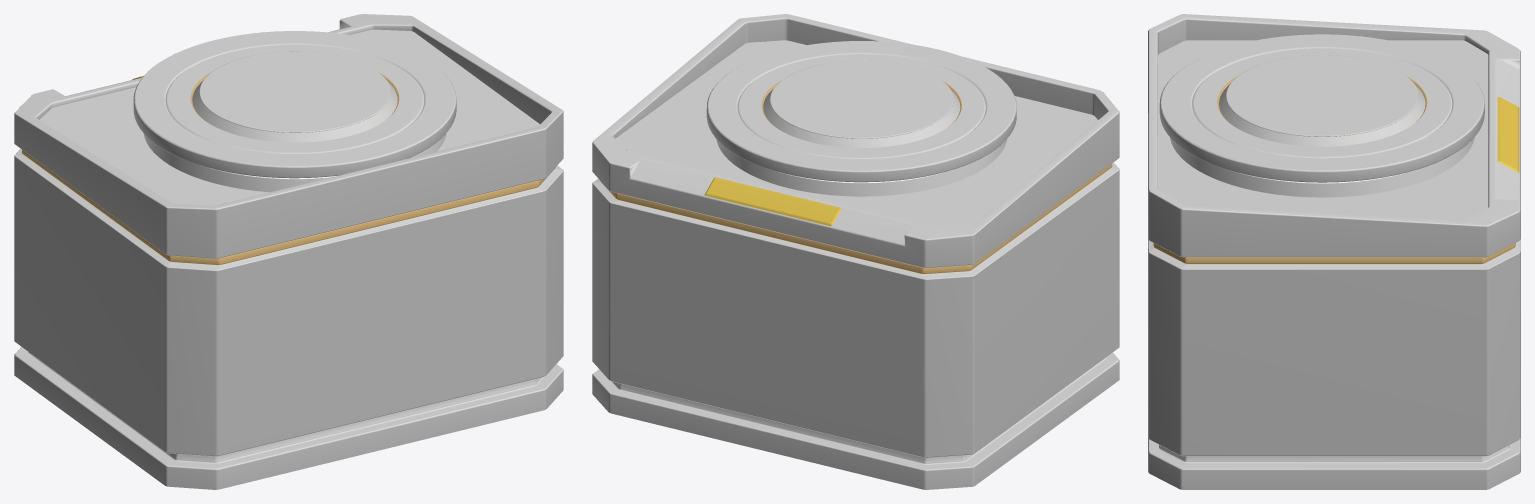
3 views of the same model, side by side, from view 1: azimuth 30°, elevation 25°; view 2: azimuth 150°, elevation 25°; view 3: azimuth 270°, elevation 25° (orthographic). The views are drawn at different scales.
Visible parts, largest first — view 1: SM_H_Building_FutureTech_Dock_06a_InterWall_01d; view 2: SM_H_Building_FutureTech_Dock_06a_InterWall_01d; view 3: SM_H_Building_FutureTech_Dock_06a_InterWall_01d.
Part boxes in pixels (x1,y1,x2,y2): SM_H_Building_FutureTech_Dock_06a_InterWall_01d: (14,14,563,489); SM_H_Building_FutureTech_Dock_06a_InterWall_01d: (592,14,1119,489); SM_H_Building_FutureTech_Dock_06a_InterWall_01d: (1148,14,1520,489).
Bounding box in the file's own units: 41.87 × 51.98 × 36.79.
